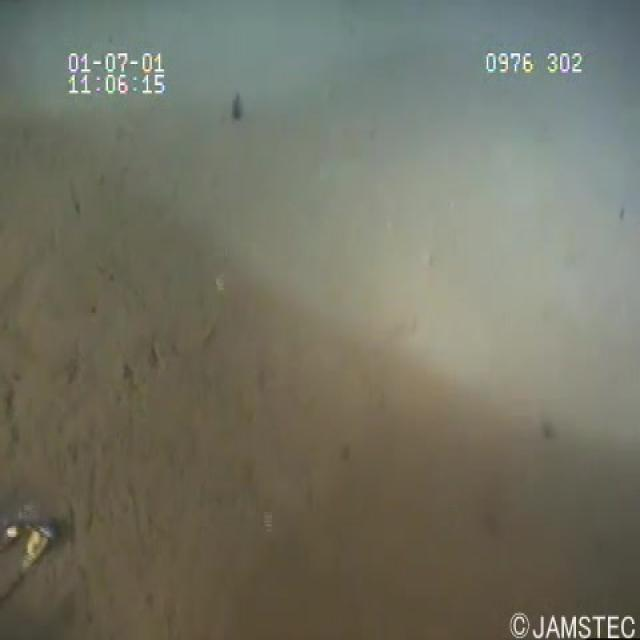plastic: (1, 484, 63, 612)
